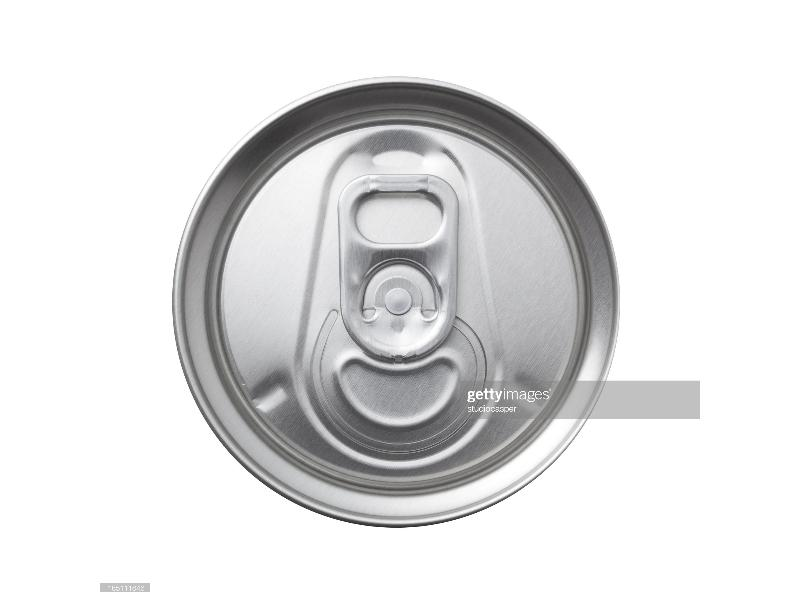can: (162, 69, 630, 521)
